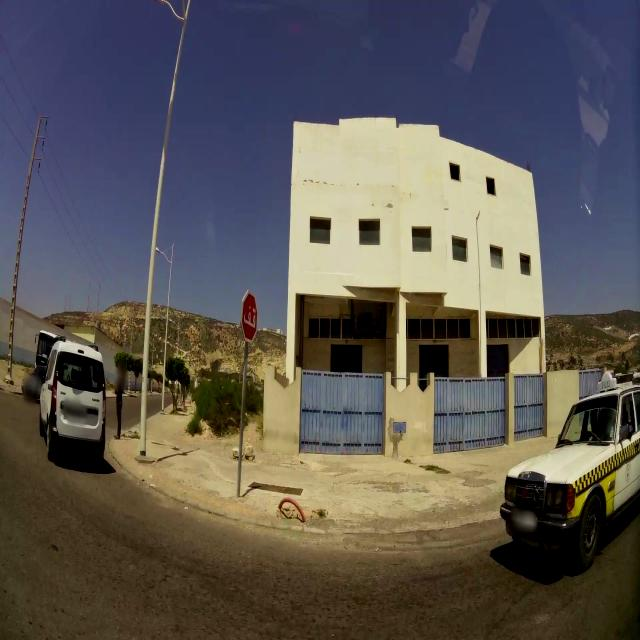car: (499, 377, 640, 572), (38, 337, 106, 465), (34, 328, 66, 372)
